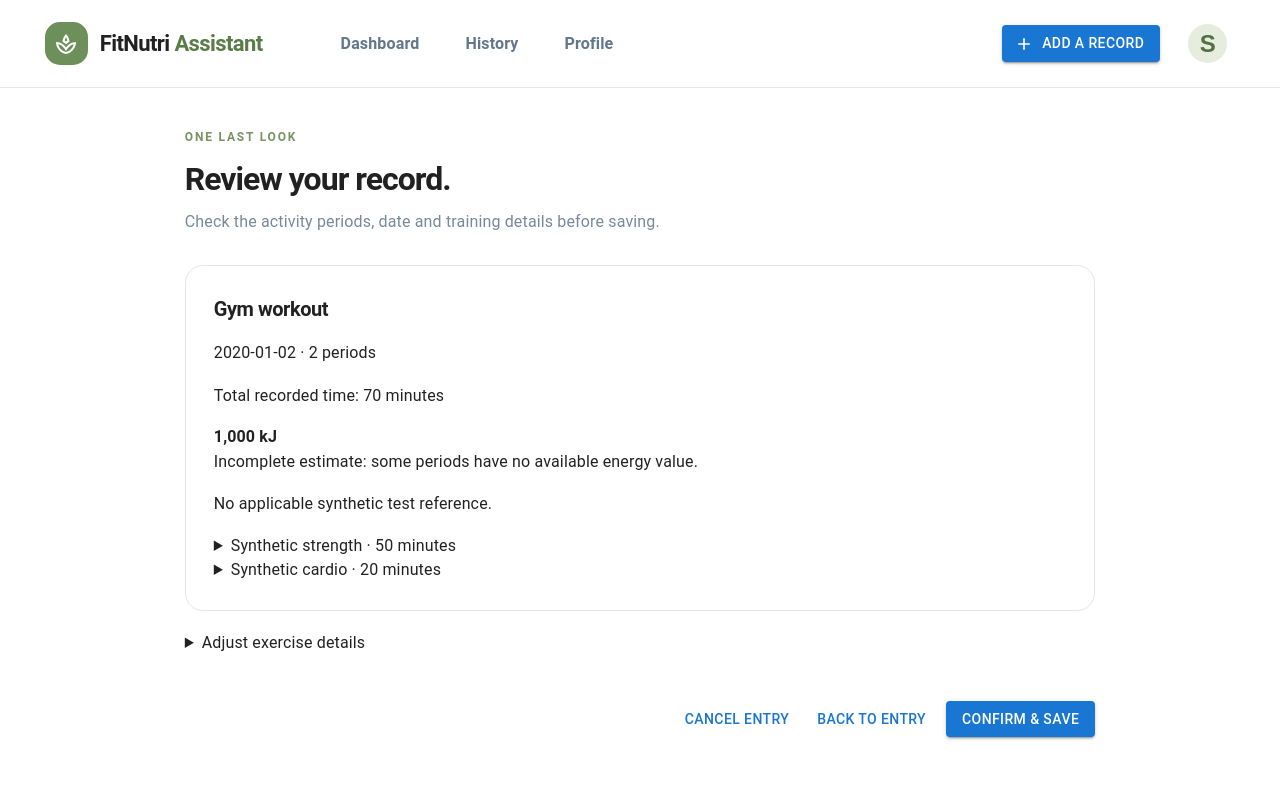
has one final confirm, saves genuine partial availability once and returns to today Dashboard
The image size is (1280, 785).
Expected: the heading "Review your record." is shown, 185,160 -> 450,198
Expected: the text "Incomplete estimate: some periods have no available energy value." is shown, 214,452 -> 698,471
Step 1. Click the button "Confirm & save" → {"x": 1021, "y": 719}, box 946,701 -> 1095,737
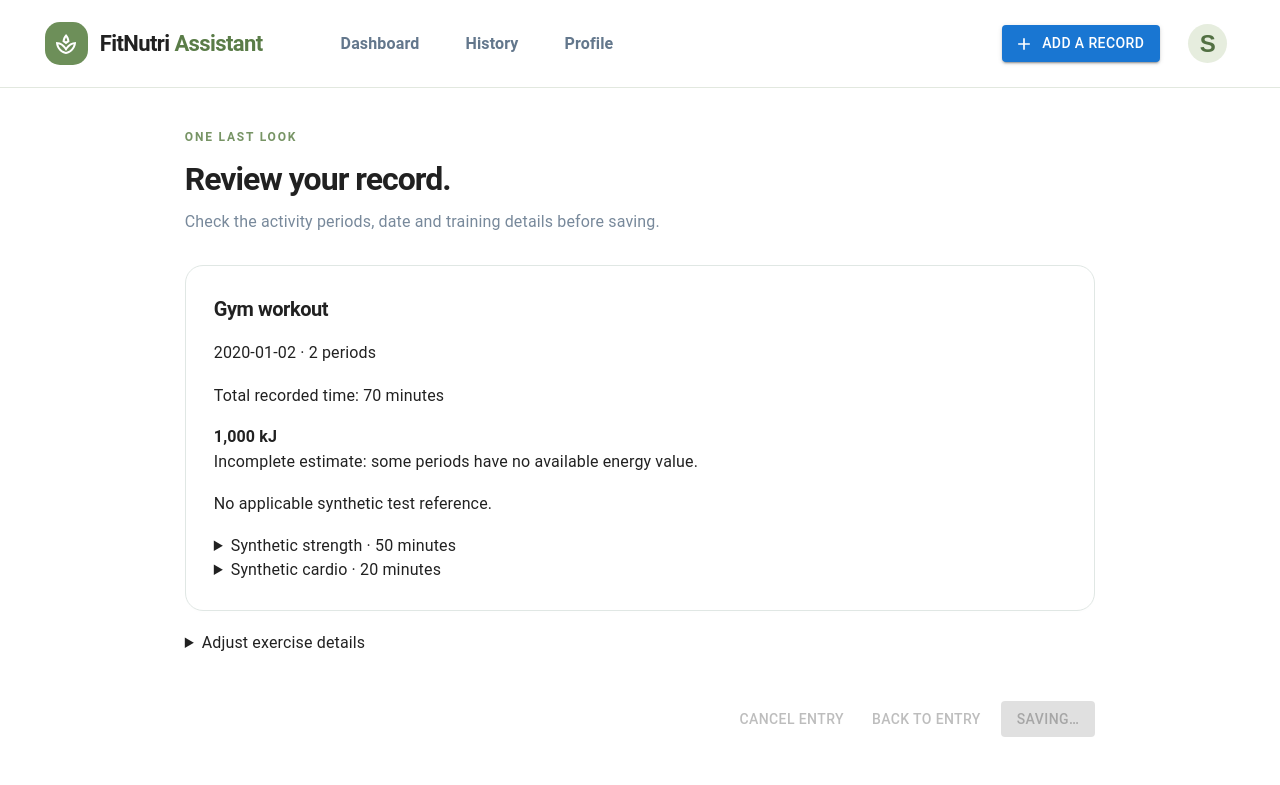
Step 2. Click the button named "Confirm & save" → {"x": 1048, "y": 719}, box 1001,701 -> 1095,737
(page scrolled)
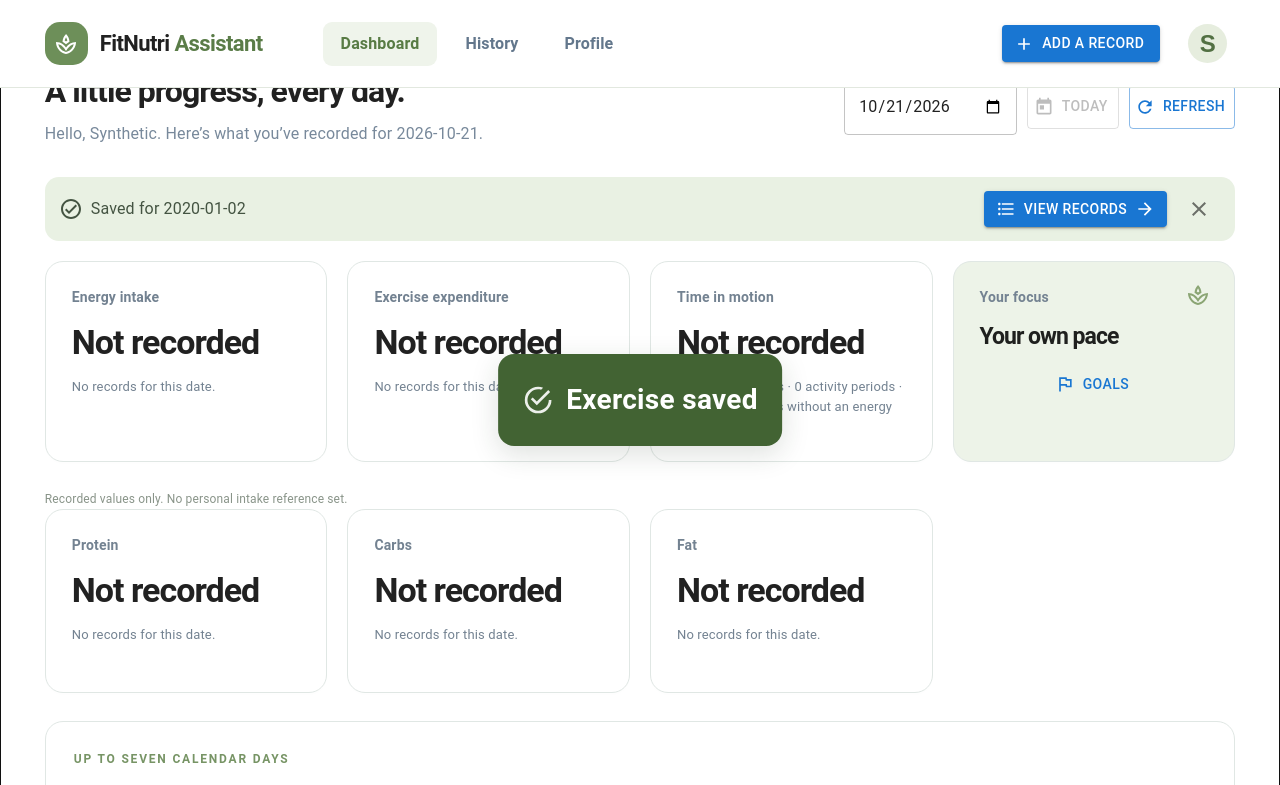
Expected: the heading "A little progress, every day." is shown, 45,72 -> 405,110
Expected: the text "Exercise saved" is shown, 566,383 -> 758,416
